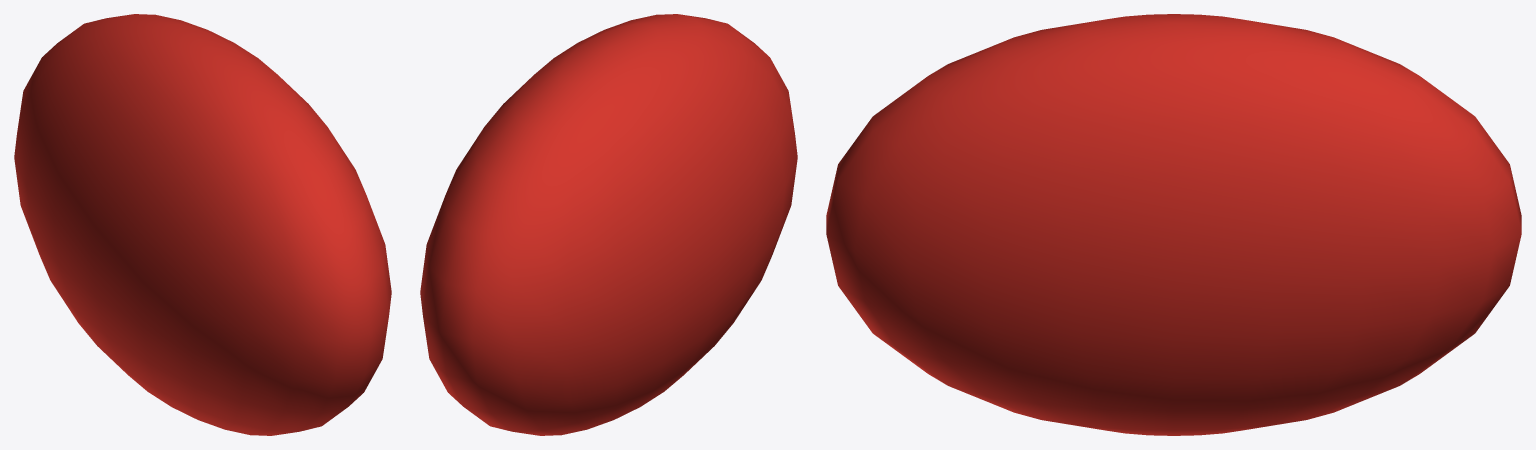
Rendered from taillight_hd.glb.
3 renders of one model, left to right at view 1: azimuth 30°, elevation 25°; view 2: azimuth 150°, elevation 25°; view 3: azimuth 270°, elevation 25°, orthographic. The views are drawn at different scales.
Visible parts, largest first — view 1: S51_HD_taillight; view 2: S51_HD_taillight; view 3: S51_HD_taillight.
Part boxes in pixels (x1,y1,x2,y2): S51_HD_taillight: [14, 14, 391, 435]; S51_HD_taillight: [420, 14, 797, 435]; S51_HD_taillight: [826, 14, 1521, 435].
Size of the model in its own units: 0.17 by 0.26 by 0.4058.
